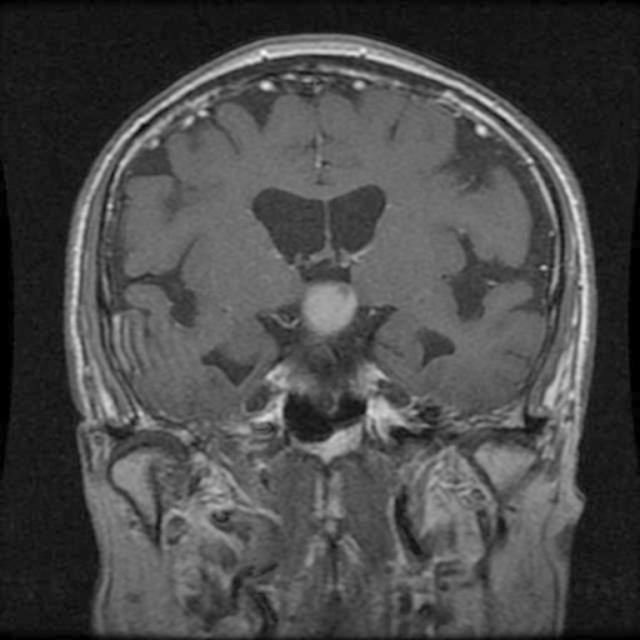no tumor: (303, 265, 365, 335)
